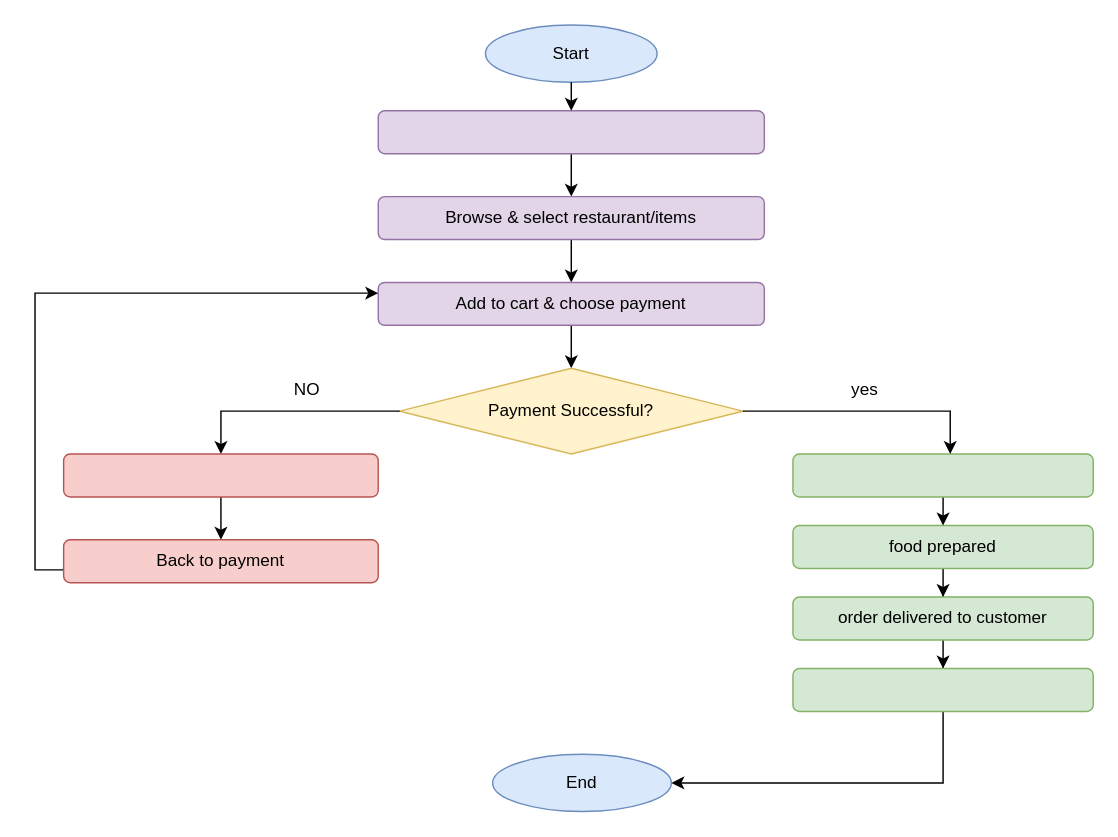
The diagram is 1118 pixels wide and 837 high, and some of its shapes have lost their labels. Here are the shapes that lost their labels. From the top down, the centre of each, then its label:
At [570,131]: "Customer opens app".
At [220,475]: "Show error & retry".
At [942,475]: "order sent to restaurant".
At [942,689]: "customer feedback/rating".
